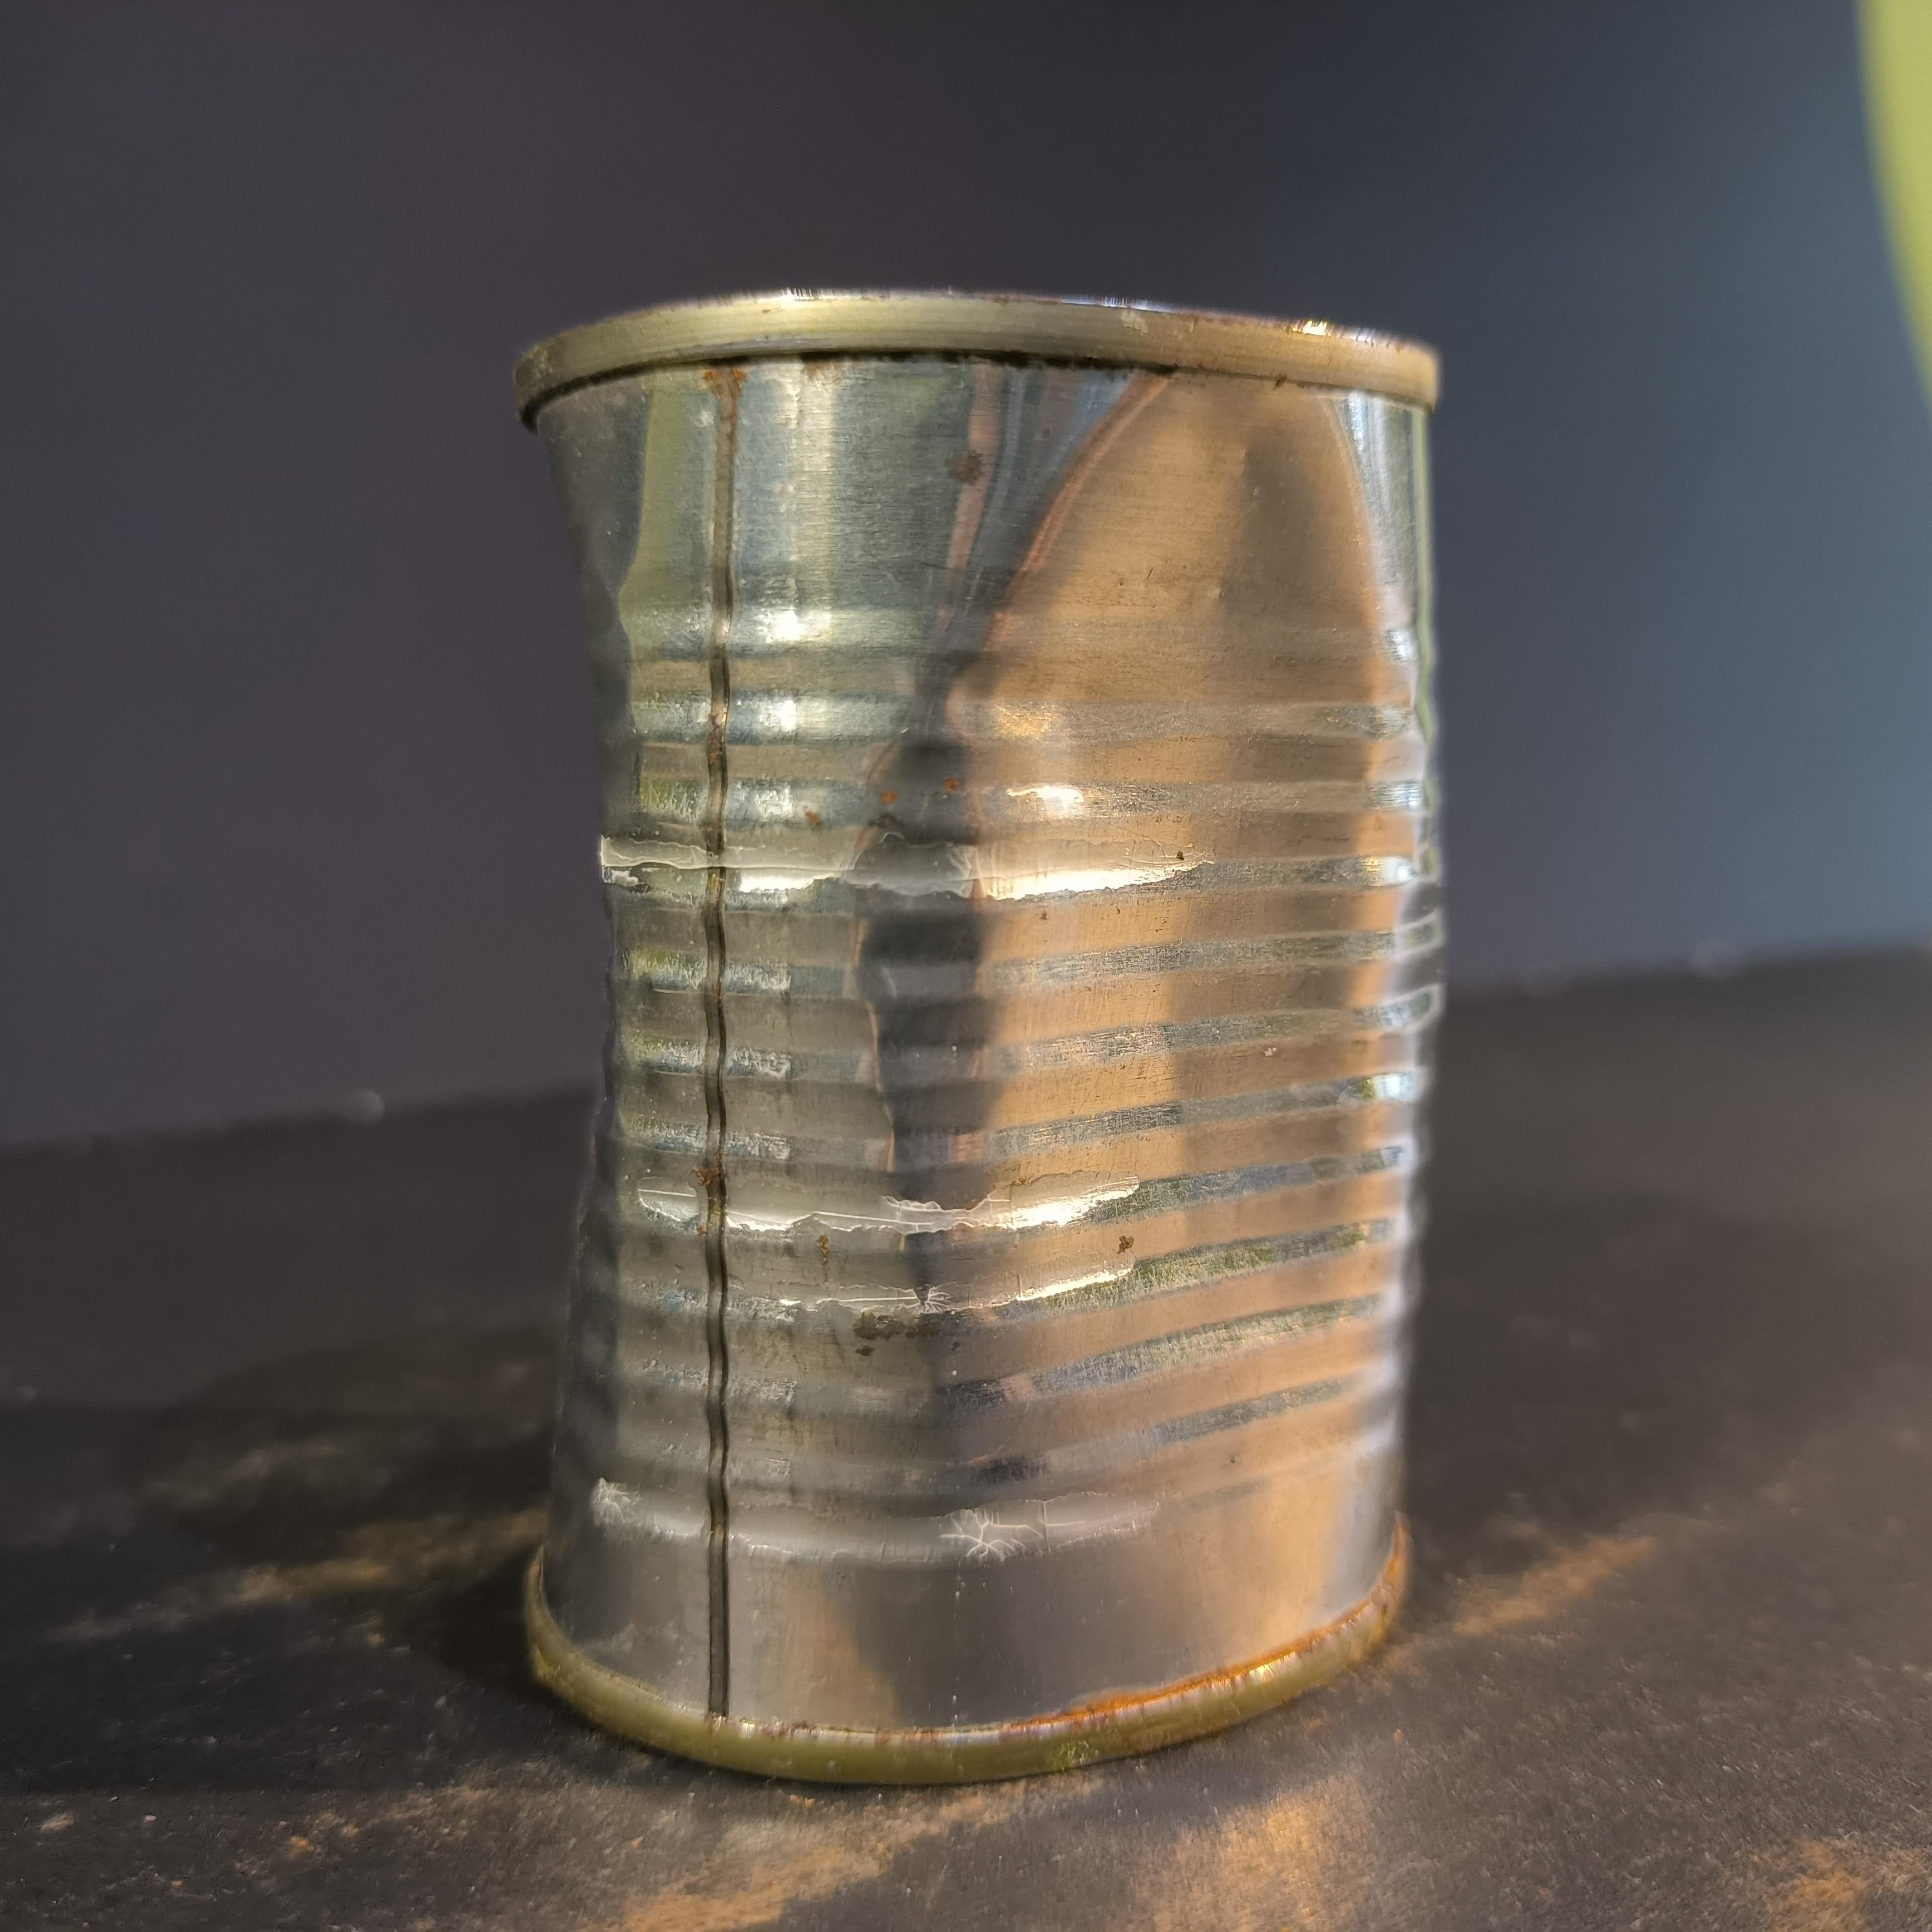Dented: (495, 259, 1461, 1800)
